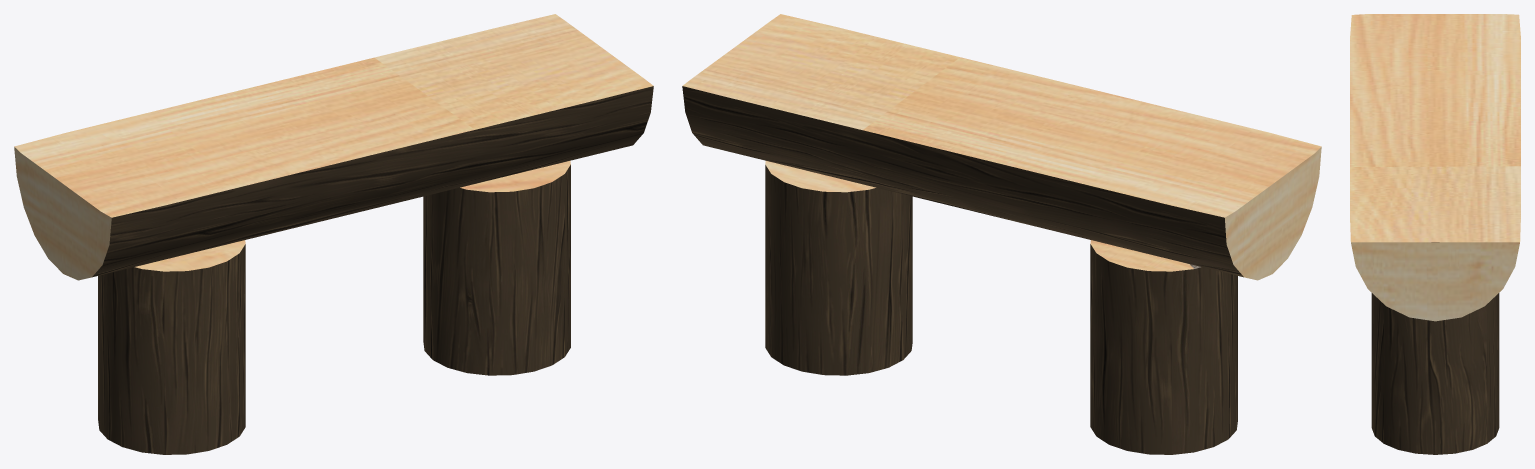
Rendered from campFireSeats1.fbx.
3 views of the same model, side by side, from view 1: azimuth 30°, elevation 25°; view 2: azimuth 150°, elevation 25°; view 3: azimuth 270°, elevation 25° (orthographic). The views are drawn at different scales.
Visible parts, largest first — view 1: SchneiderCoryFinalPart02:pPlane1; view 2: SchneiderCoryFinalPart02:pPlane1; view 3: SchneiderCoryFinalPart02:pPlane1.
Boxes of the visible parts, x1,y1,x2,y2 form: SchneiderCoryFinalPart02:pPlane1: [14, 14, 653, 454]; SchneiderCoryFinalPart02:pPlane1: [682, 14, 1321, 454]; SchneiderCoryFinalPart02:pPlane1: [1350, 14, 1520, 454].
Bounding box in the file's own units: 122 × 57.67 × 38.67.
